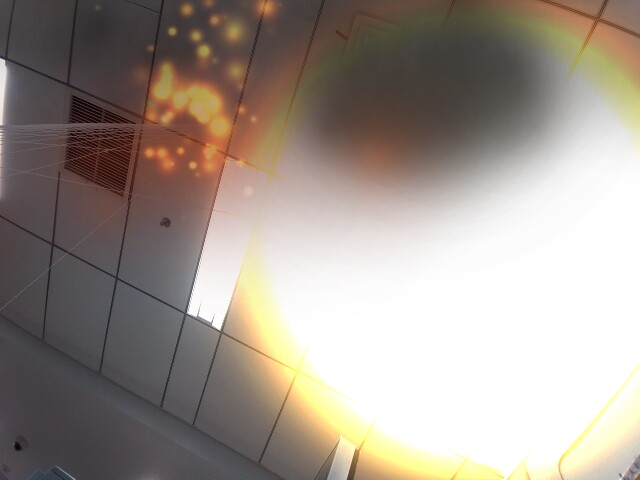fire: (207, 14, 639, 471)
